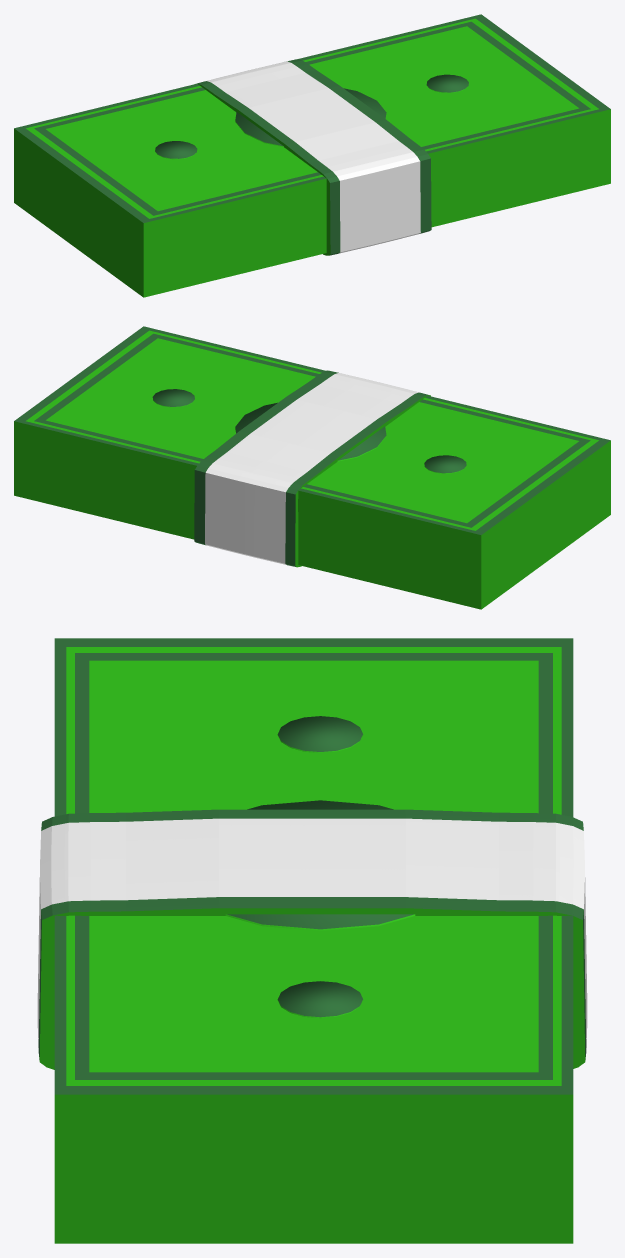
File: DollarStack.fbx
3 renders of one model, top to bottom at view 1: azimuth 30°, elevation 25°; view 2: azimuth 150°, elevation 25°; view 3: azimuth 270°, elevation 25°, orthographic. The views are drawn at different scales.
Parts seen in each view (by area): view 1: Dollar Toon; view 2: Dollar Toon; view 3: Dollar Toon.
Part boxes in pixels (box(x1,y1,x2,y2)): Dollar Toon: box(14, 14, 610, 297); Dollar Toon: box(14, 326, 610, 609); Dollar Toon: box(37, 638, 587, 1243).
Bounding box in the file's own units: 63.29 × 10.84 × 32.23.
